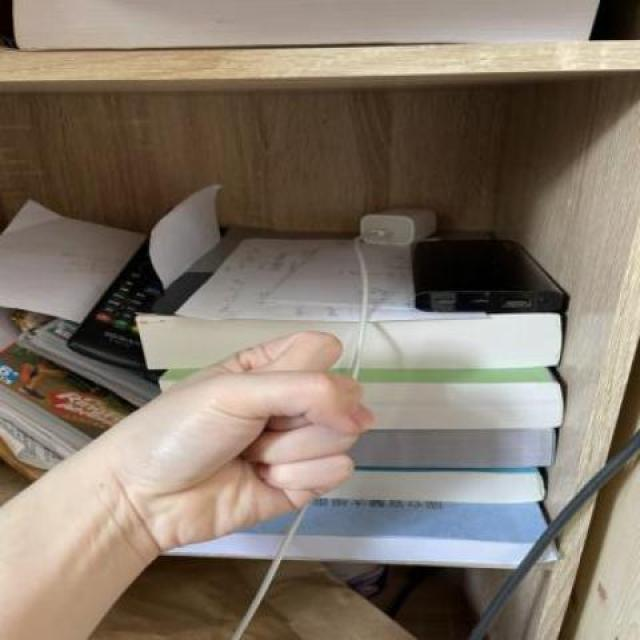Closed Hand: (99, 332, 374, 572)
